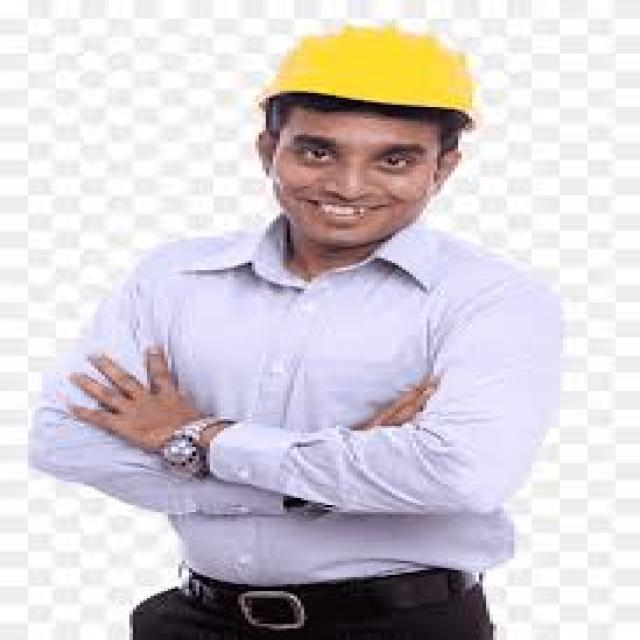safety_helmet: (241, 13, 503, 130)
